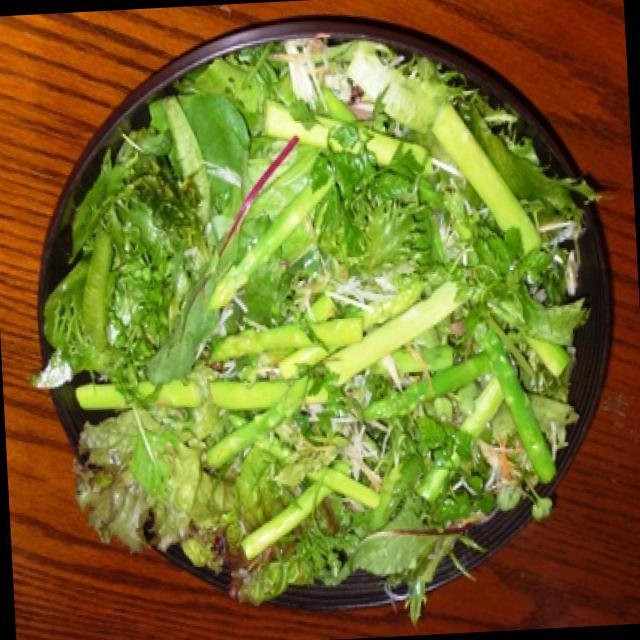Green Salad: (39, 45, 590, 602)
